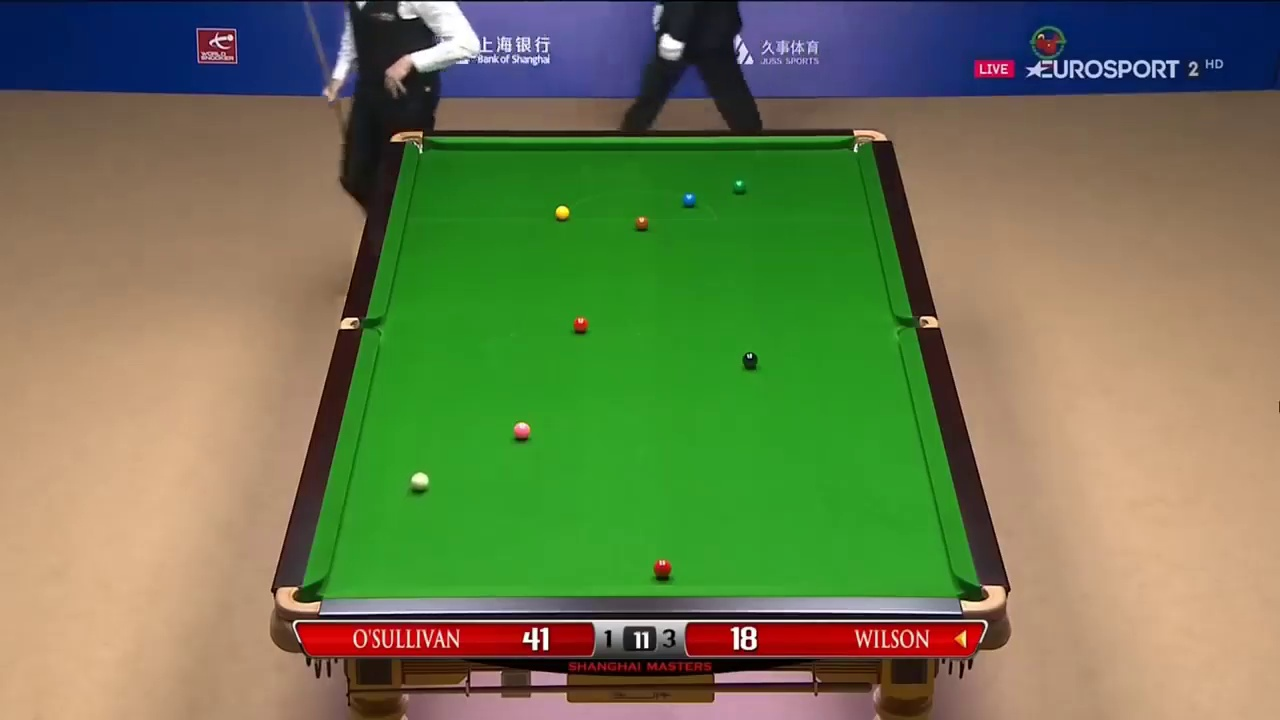black: (742, 351, 758, 368)
blue: (683, 191, 695, 206)
brown: (633, 216, 649, 230)
green: (731, 178, 748, 192)
pink: (513, 422, 531, 441)
red: (653, 560, 673, 577), (572, 317, 587, 331)
white: (409, 469, 430, 492)
yellow: (554, 204, 570, 221)
